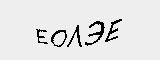Е: (103, 18, 124, 47), (33, 26, 48, 48)
Л: (66, 23, 83, 53)
О: (48, 29, 69, 50)
Э: (85, 17, 105, 49)
